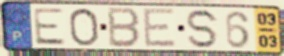6: (224, 10, 251, 50)
B: (107, 6, 142, 49)
E: (141, 7, 178, 50), (31, 7, 68, 46)
O: (67, 7, 101, 48)
S: (185, 8, 221, 50)
